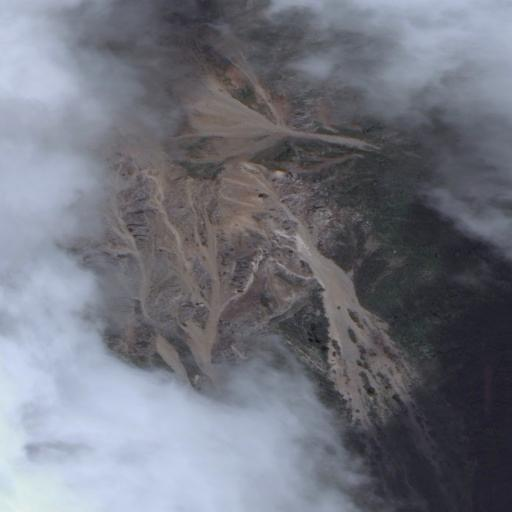landslide: (288, 223, 428, 429)
